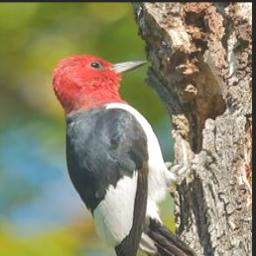Woodpecker: (53, 51, 205, 256)
